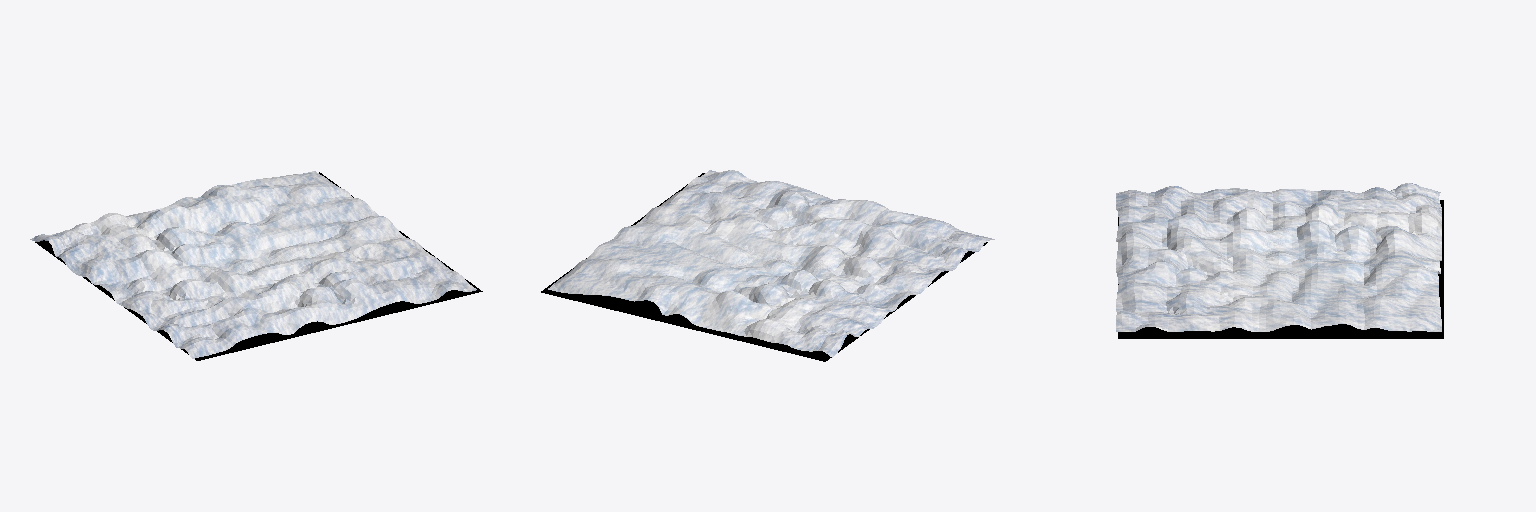
3 views of the same model, side by side, from view 1: azimuth 30°, elevation 25°; view 2: azimuth 150°, elevation 25°; view 3: azimuth 270°, elevation 25° (orthographic).
Size of the model in its own units: 24.7 by 1.93 by 24.01.
Materials: 2 (1 with a texture image).